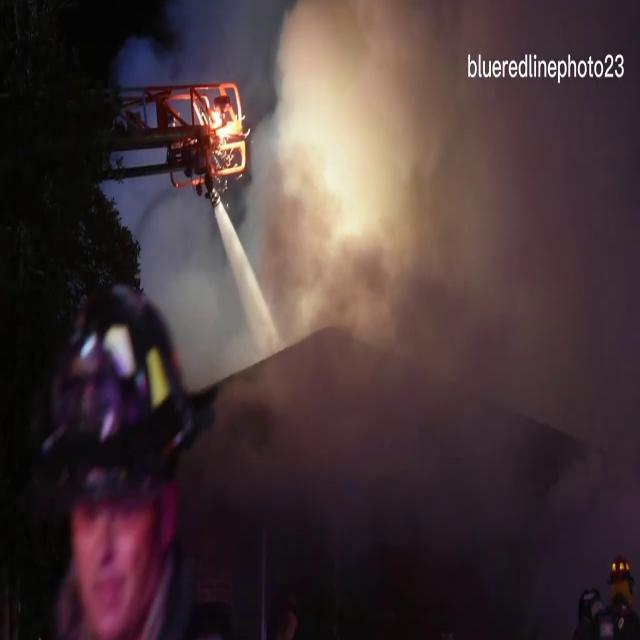Fire: (190, 81, 253, 176)
Smoke: (228, 1, 638, 560)
